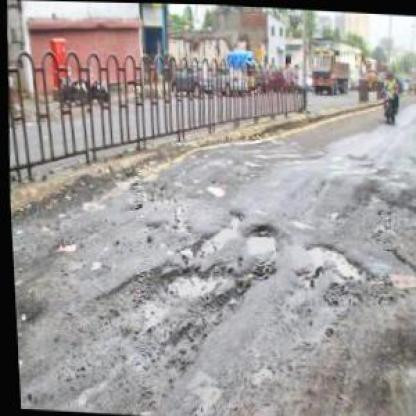pothole: (90, 256, 252, 328), (300, 240, 370, 284), (193, 205, 244, 255), (240, 219, 279, 258), (134, 186, 174, 205), (386, 265, 414, 288), (204, 179, 223, 198)
